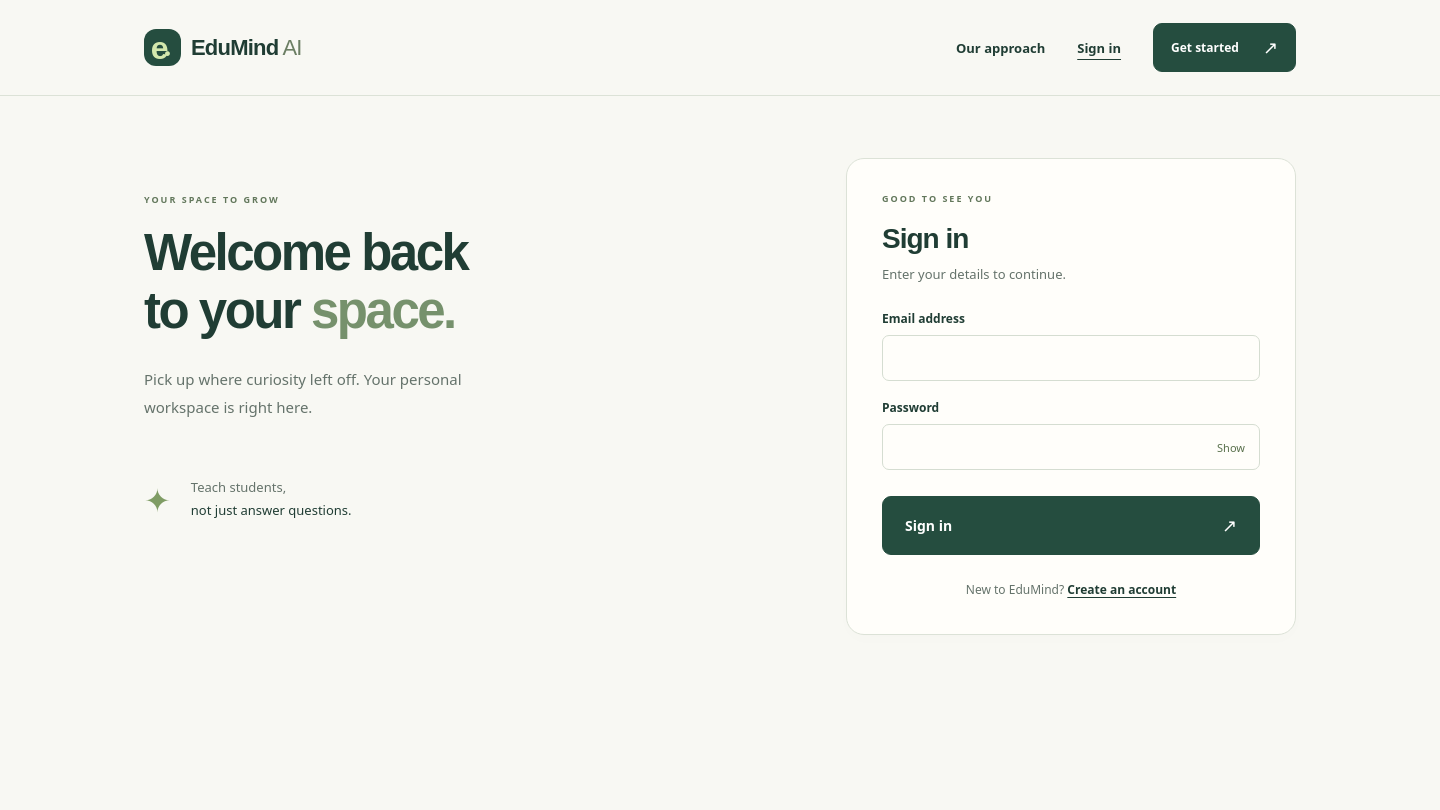
Test case: shows a safe login failure without rendering backend internals
Type "learner@example.com" into the field labelled "Email address".
click(1071, 358); type("learner@example.com")  # box [882,336,1260,382]
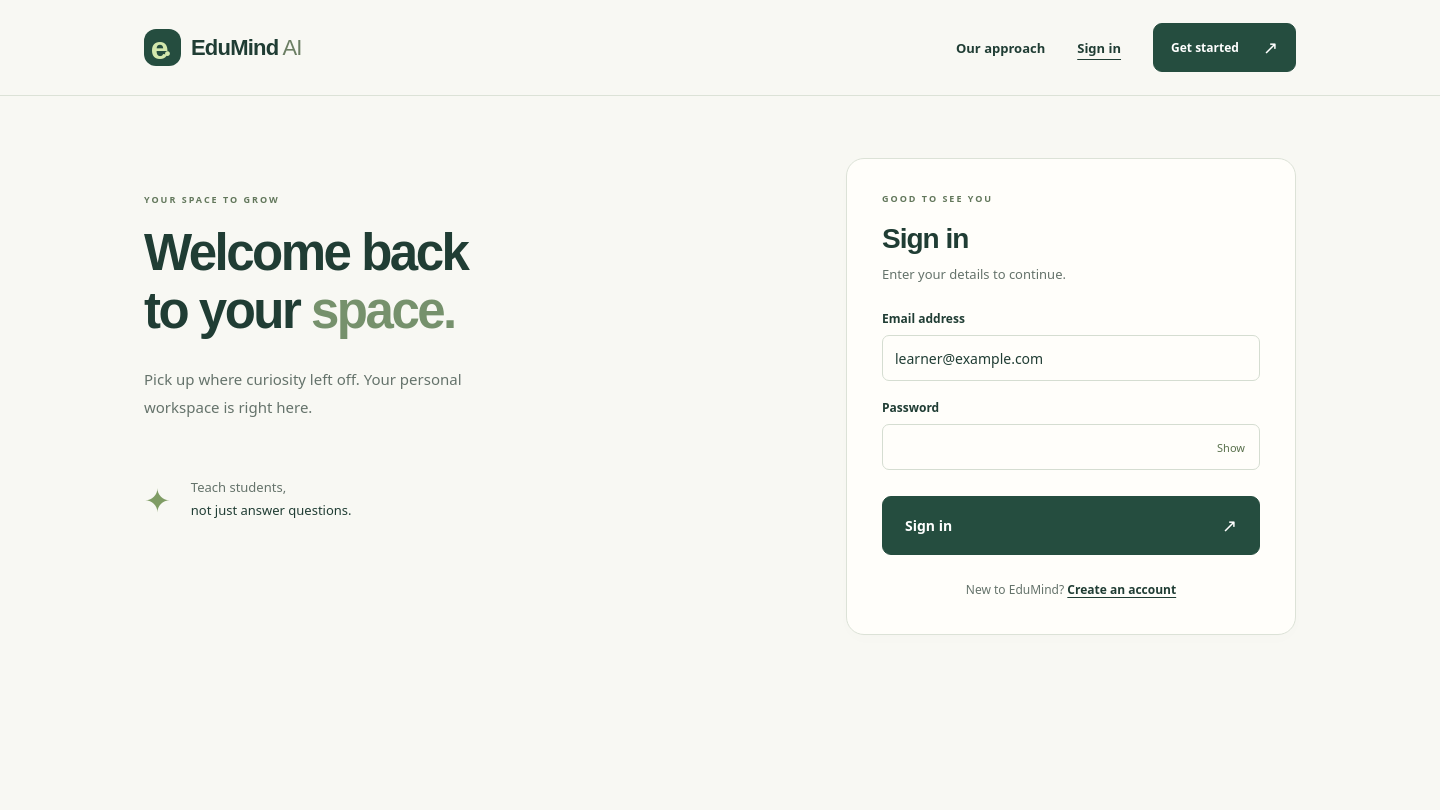
Type "A long learning passphrase!" into the password field labelled "Password".
click(1071, 448); type("A long learning passphrase!")  # box [882,424,1260,470]
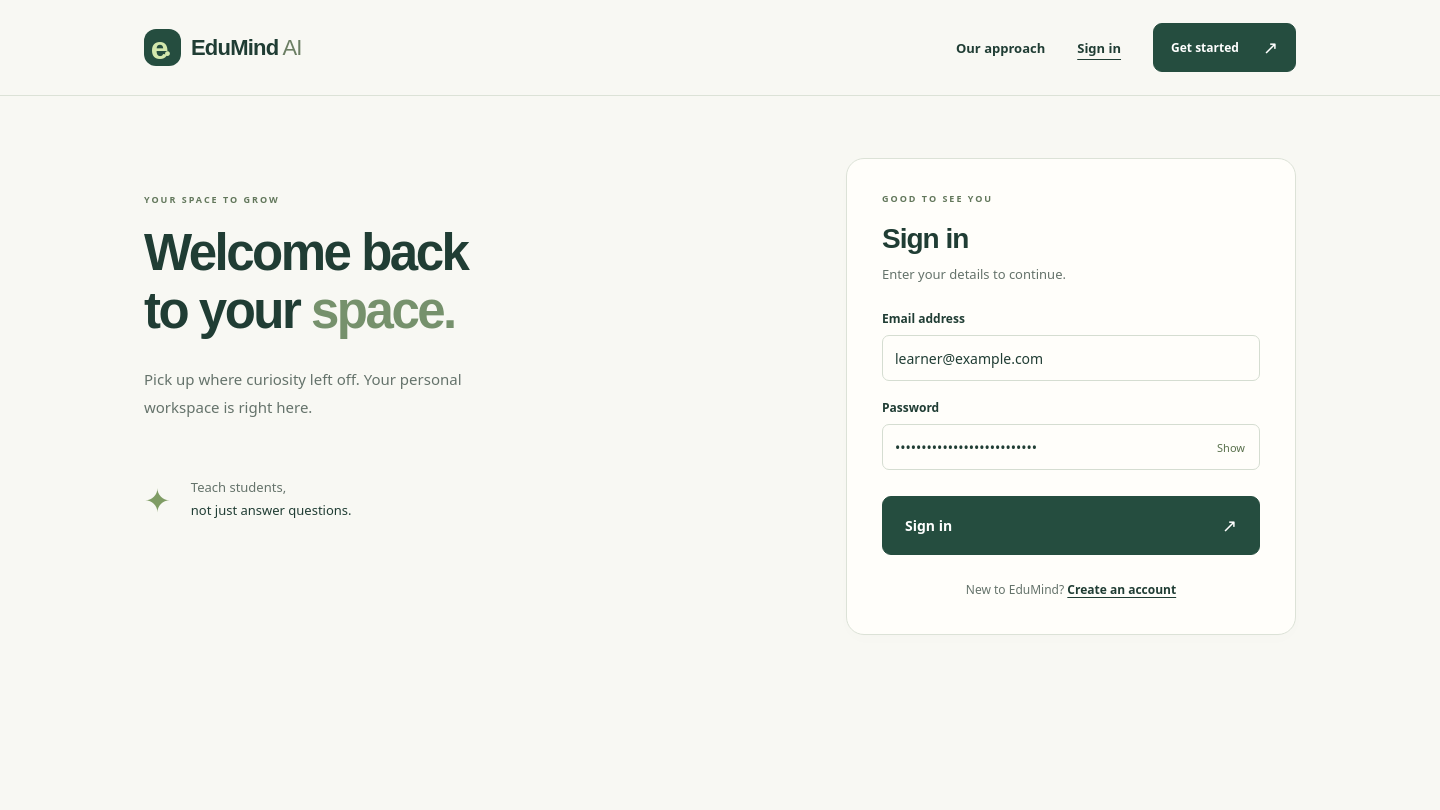
Click the button "Sign in ↗".
click(929, 526)  # box [882,496,1260,556]
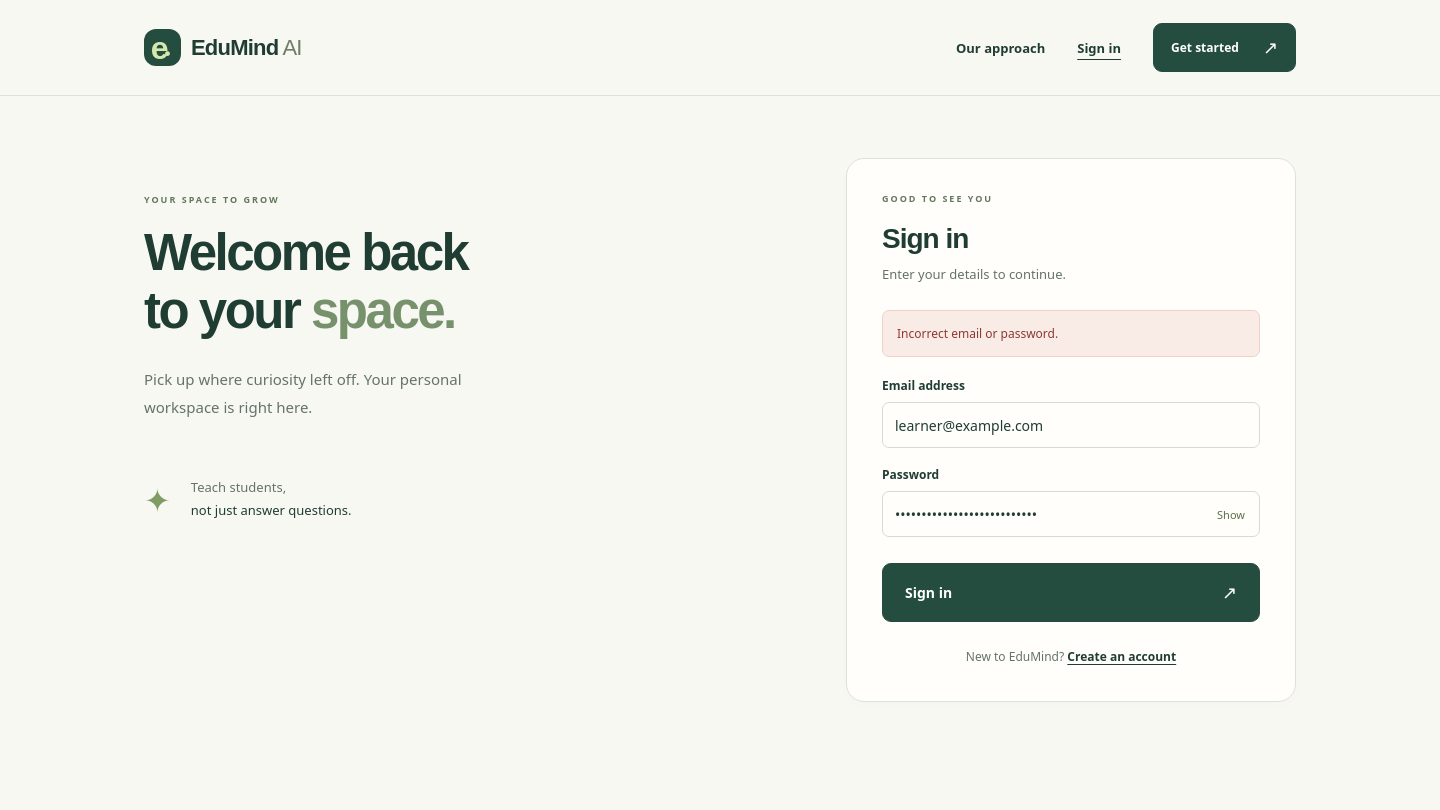
Now the message reads "Incorrect email or password.", box [897,326,1058,342]
